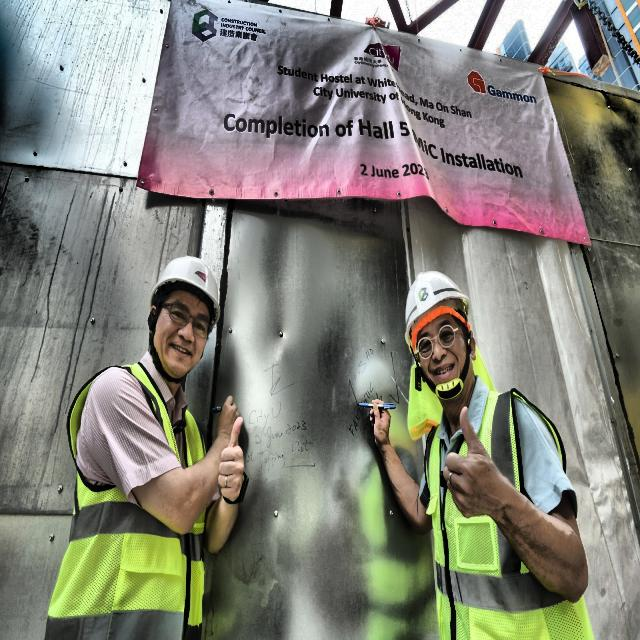safety_helmet: (146, 248, 228, 334), (394, 262, 474, 346)
safety_jacket: (414, 386, 600, 638), (50, 358, 206, 634)
